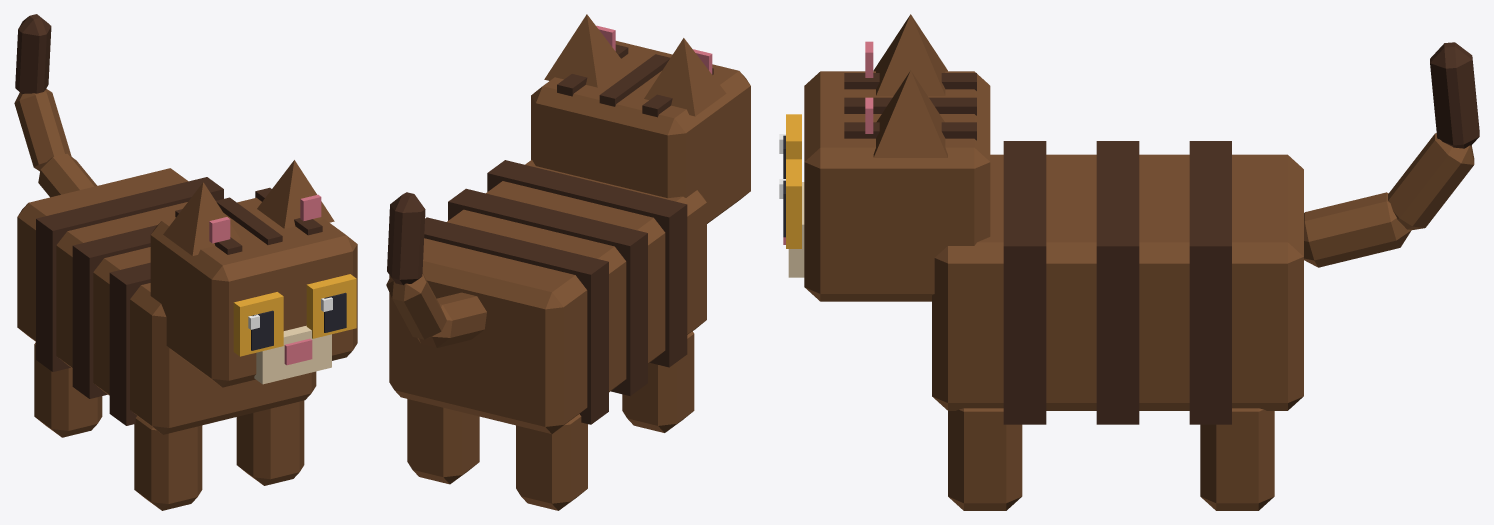
The model's file is CatCafe_Cat_Brownie.glb.
The picture shows the model from 3 angles, left to right: view 1: azimuth 30°, elevation 25°; view 2: azimuth 150°, elevation 25°; view 3: azimuth 270°, elevation 25°; orthographic projection. The views are drawn at different scales.
Parts seen in each view (by area): view 1: CatCafe_Cat_Brownie_Body, CatCafe_Cat_Brownie_Head, CatCafe_Cat_Brownie_Tail; view 2: CatCafe_Cat_Brownie_Body, CatCafe_Cat_Brownie_Head, CatCafe_Cat_Brownie_Tail; view 3: CatCafe_Cat_Brownie_Body, CatCafe_Cat_Brownie_Head, CatCafe_Cat_Brownie_Tail.
Boxes of the visible parts, left/top/right/bottom form: CatCafe_Cat_Brownie_Body: left=17, top=168, right=316, bottom=510; CatCafe_Cat_Brownie_Head: left=150, top=160, right=357, bottom=387; CatCafe_Cat_Brownie_Tail: left=14, top=14, right=97, bottom=197; CatCafe_Cat_Brownie_Body: left=389, top=160, right=706, bottom=510; CatCafe_Cat_Brownie_Head: left=531, top=14, right=750, bottom=223; CatCafe_Cat_Brownie_Tail: left=386, top=192, right=486, bottom=347; CatCafe_Cat_Brownie_Body: left=932, top=141, right=1303, bottom=510; CatCafe_Cat_Brownie_Head: left=779, top=14, right=990, bottom=301; CatCafe_Cat_Brownie_Tail: left=1304, top=42, right=1479, bottom=267.
Size of the model in its own units: 0.94 by 1.78 by 2.64.
Materials: 1 (1 with a texture image).
